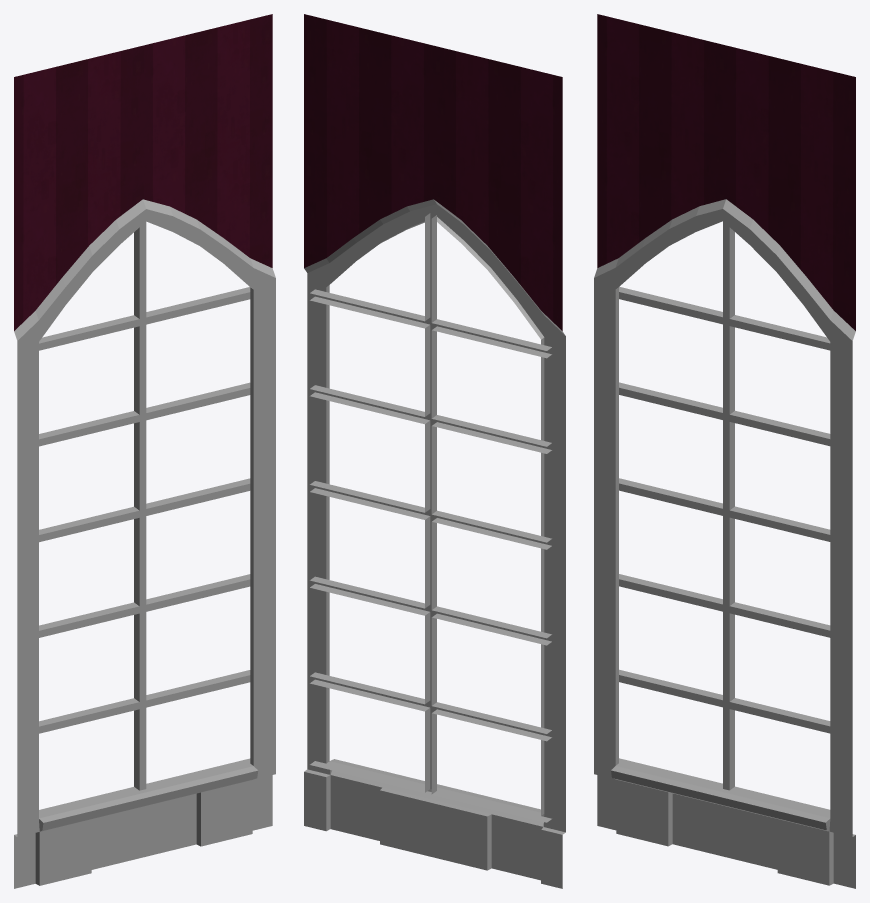
The model's file is sm_mansionWallWindow_4x6.fbx.
The picture shows the model from 3 angles, left to right: view 1: azimuth 30°, elevation 25°; view 2: azimuth 150°, elevation 25°; view 3: azimuth 330°, elevation 25°; orthographic projection.
Visible parts, largest first — view 1: sm_mansionWallWindow_4x6; view 2: sm_mansionWallWindow_4x6; view 3: sm_mansionWallWindow_4x6.
Boxes of the visible parts, x1=… form: sm_mansionWallWindow_4x6: x1=14, y1=14, x2=275, y2=888; sm_mansionWallWindow_4x6: x1=304, y1=14, x2=565, y2=888; sm_mansionWallWindow_4x6: x1=594, y1=14, x2=855, y2=888.
Bounding box in the file's own units: 400 × 1200 × 35.71.
